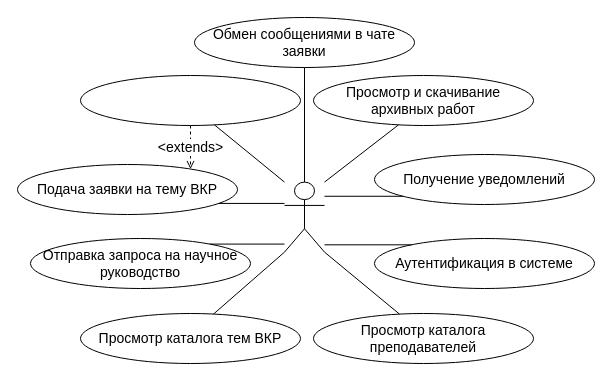
Some shapes in this 612 by 381 pixel diagram are drawn without their labels. Each missing label, with the box of its shape:
Предложение собственной темы: (80, 74, 300, 126)
Студент: (284, 181, 324, 252)
